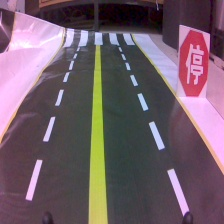stop: (175, 23, 211, 101)
